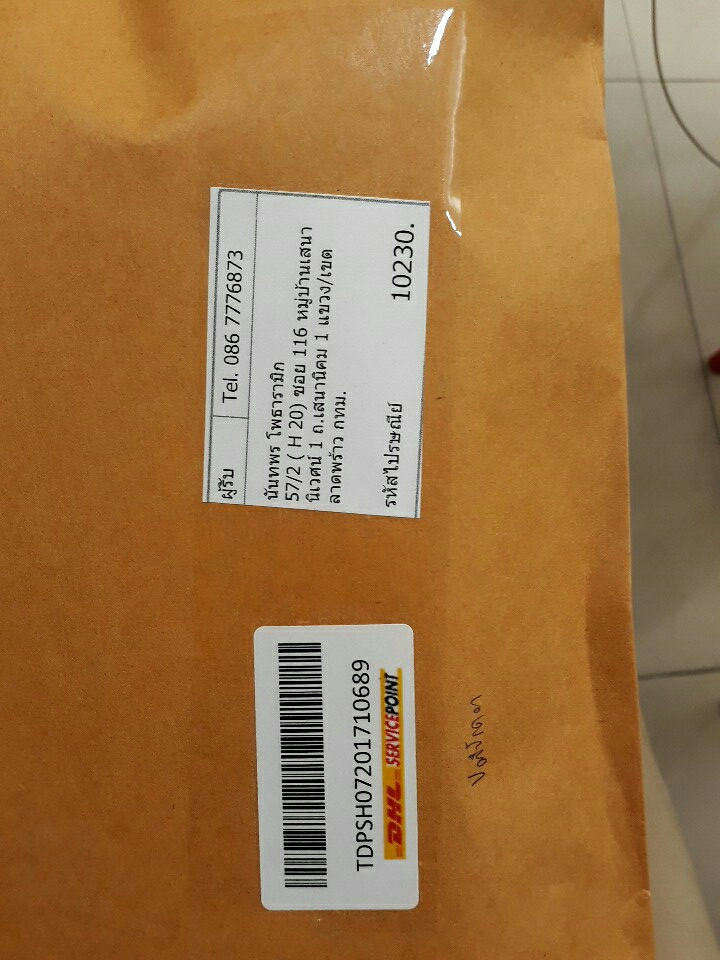ba: (245, 620, 426, 920)
txt: (216, 218, 412, 514)
